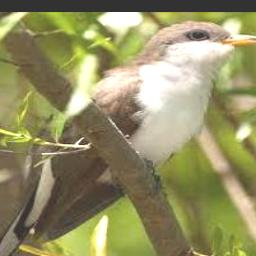Cuckoo: (0, 20, 256, 256)
